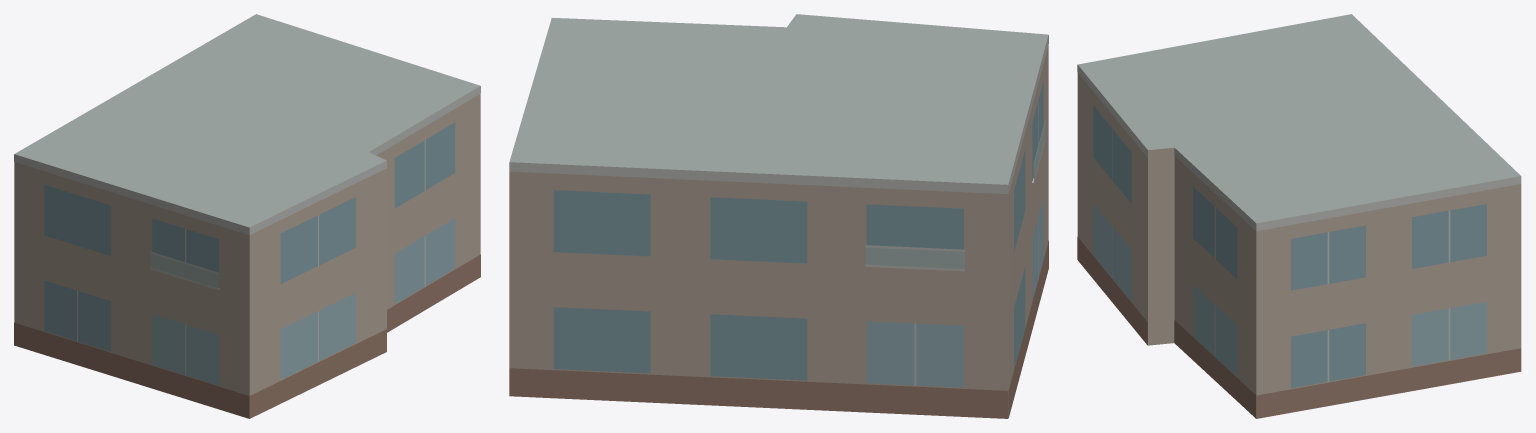
Rendered from survey-upis-32496895.glb.
3 views of the same model, side by side, from view 1: azimuth 30°, elevation 25°; view 2: azimuth 150°, elevation 25°; view 3: azimuth 270°, elevation 25° (orthographic). The views are drawn at different scales.
Visible parts, largest first — view 1: survey-upis-32496895.tmp; view 2: survey-upis-32496895.tmp; view 3: survey-upis-32496895.tmp.
Boxes of the visible parts, x1,y1,x2,y2 form: survey-upis-32496895.tmp: [14, 14, 480, 418]; survey-upis-32496895.tmp: [509, 14, 1048, 418]; survey-upis-32496895.tmp: [1077, 14, 1521, 418].
Bounding box in the file's own units: 14.02 × 6.1 × 12.56.
